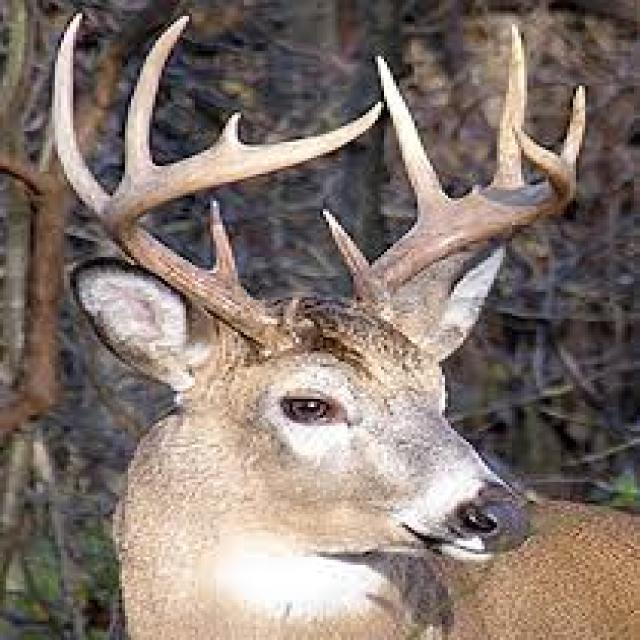E1: (212, 111, 243, 148)
L-F: (358, 130, 576, 318)
L-G1: (319, 207, 375, 286)
L-G2: (374, 54, 461, 227)
L-G3: (487, 20, 528, 189)
R-F: (105, 101, 381, 356)
R-G1: (209, 199, 250, 296)
R-G2: (51, 14, 111, 226)
R-G3: (123, 14, 190, 184)
